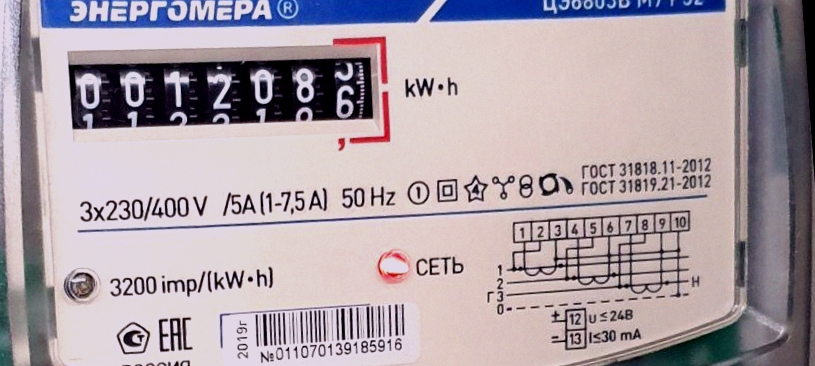0: (118, 66, 149, 110), (75, 68, 102, 111), (249, 66, 275, 106)
1: (163, 67, 188, 109)
2: (206, 70, 234, 111)
6: (330, 82, 356, 120)
8: (291, 64, 316, 105)
screen: (56, 15, 404, 177)
